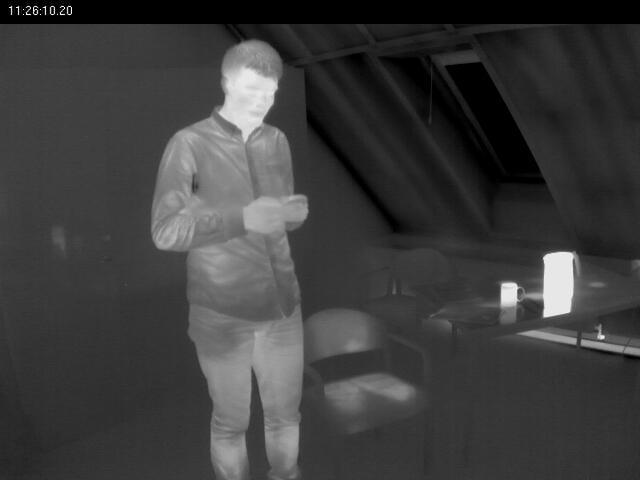person: (146, 32, 321, 480)
